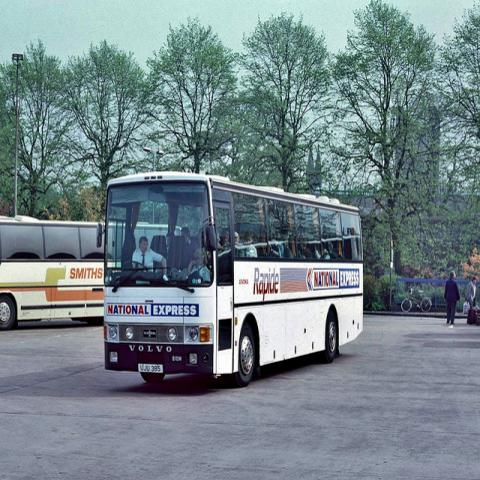bus: (95, 173, 365, 386), (2, 215, 105, 331)
